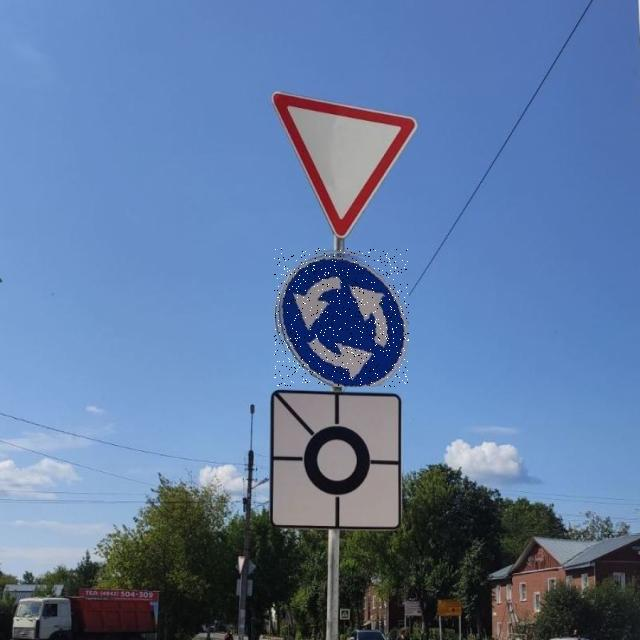roundabout: (274, 248, 409, 387)
